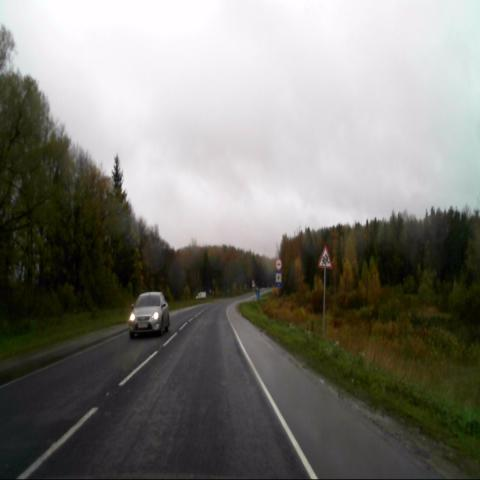1_23: (317, 246, 334, 271)
